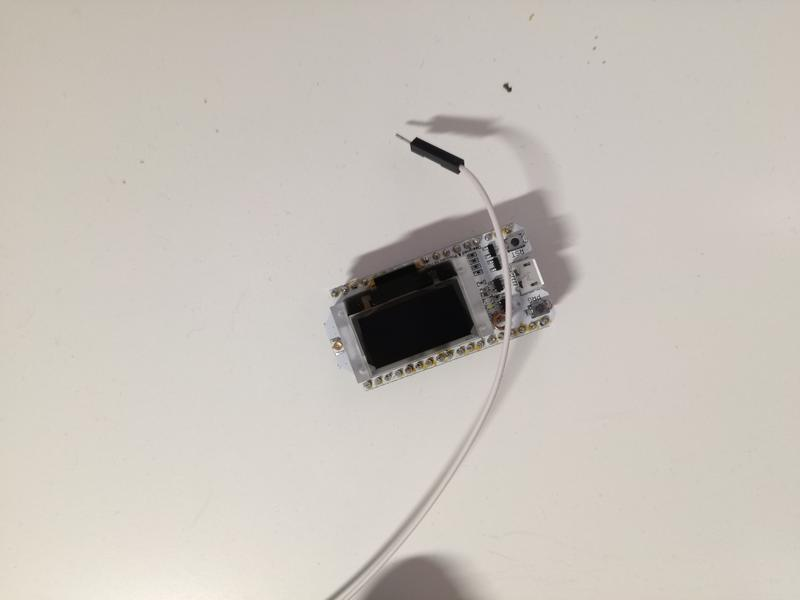Heltec_ESP32_Lora: (315, 221, 560, 400)
